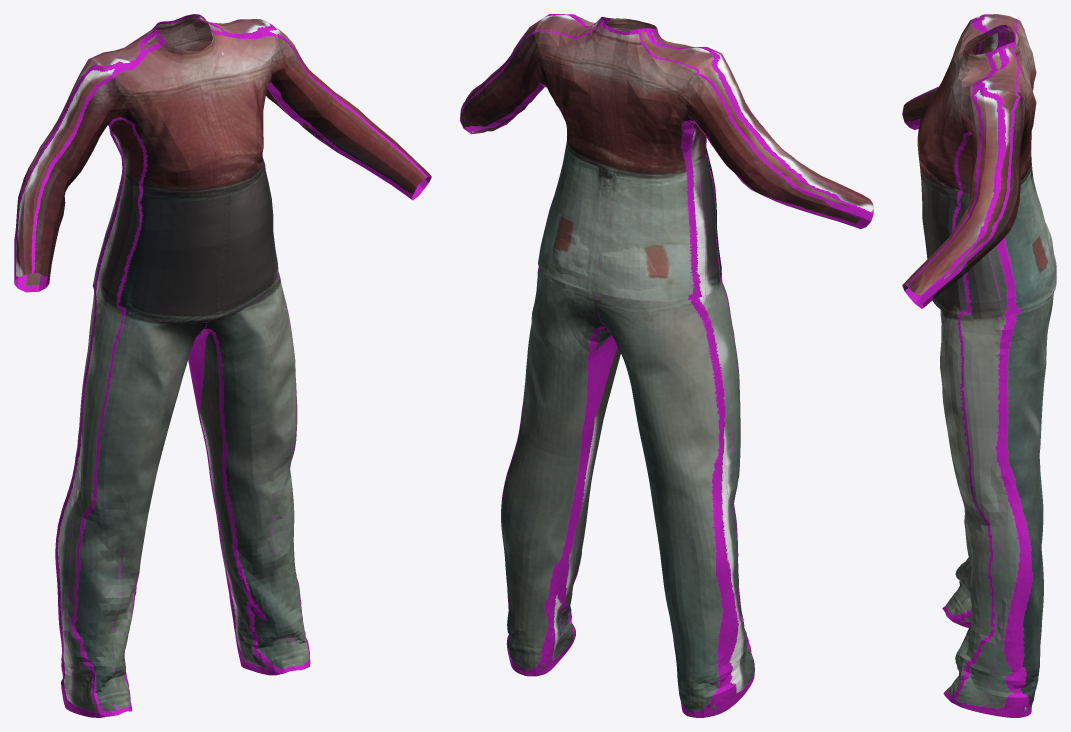
3 renders of one model, left to right at view 1: azimuth 30°, elevation 25°; view 2: azimuth 150°, elevation 25°; view 3: azimuth 270°, elevation 25°, orthographic. The views are drawn at different scales.
Size of the model in its own units: 0.6815 by 1.05 by 0.2304.
1 material, 1 textured.
